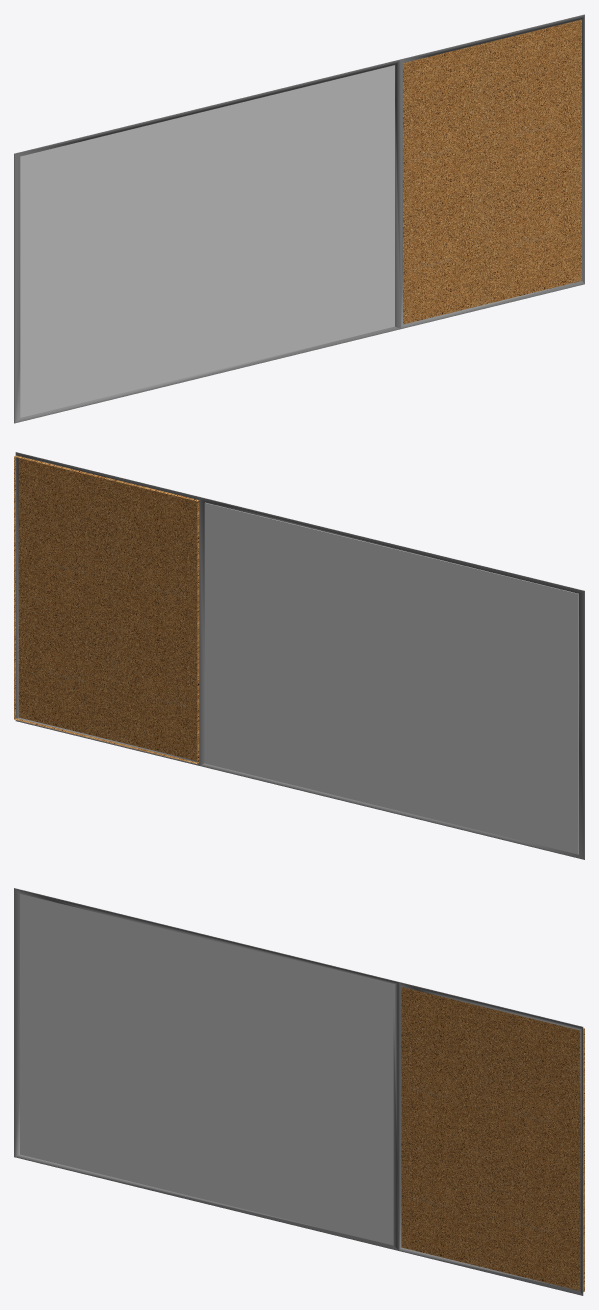
The model's file is Tablice.fbx.
The picture shows the model from 3 angles, top to bottom: view 1: azimuth 30°, elevation 25°; view 2: azimuth 150°, elevation 25°; view 3: azimuth 330°, elevation 25°; orthographic projection.
Parts seen in each view (by area): view 1: 1; view 2: 1; view 3: 1.
Boxes of the visible parts, <box> form: 1: <box>14,14,584,423</box>; 1: <box>14,452,584,859</box>; 1: <box>14,888,584,1295</box>.
Size of the model in its own units: 279 by 126 by 1.86.
Materials: 3 (1 with a texture image).
